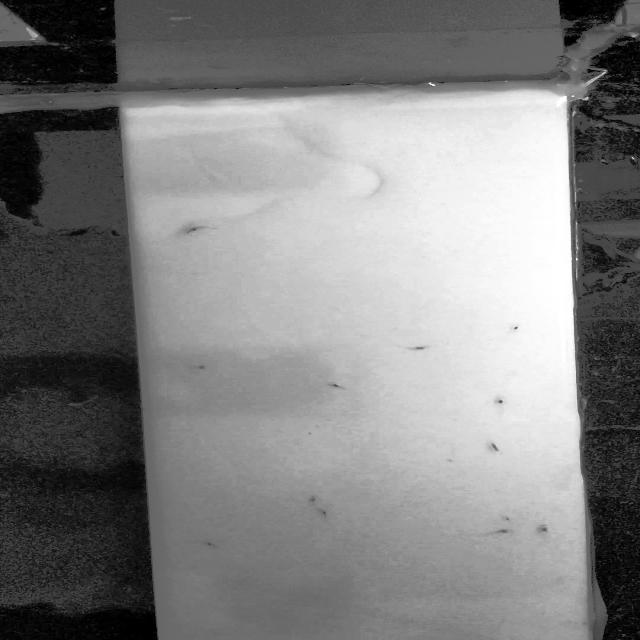shrimp: (486, 393, 520, 410), (198, 536, 224, 553), (319, 379, 352, 392), (182, 225, 208, 236), (491, 525, 517, 536), (534, 524, 554, 538), (298, 495, 326, 504), (506, 323, 532, 332), (312, 508, 333, 519), (192, 362, 214, 372)
